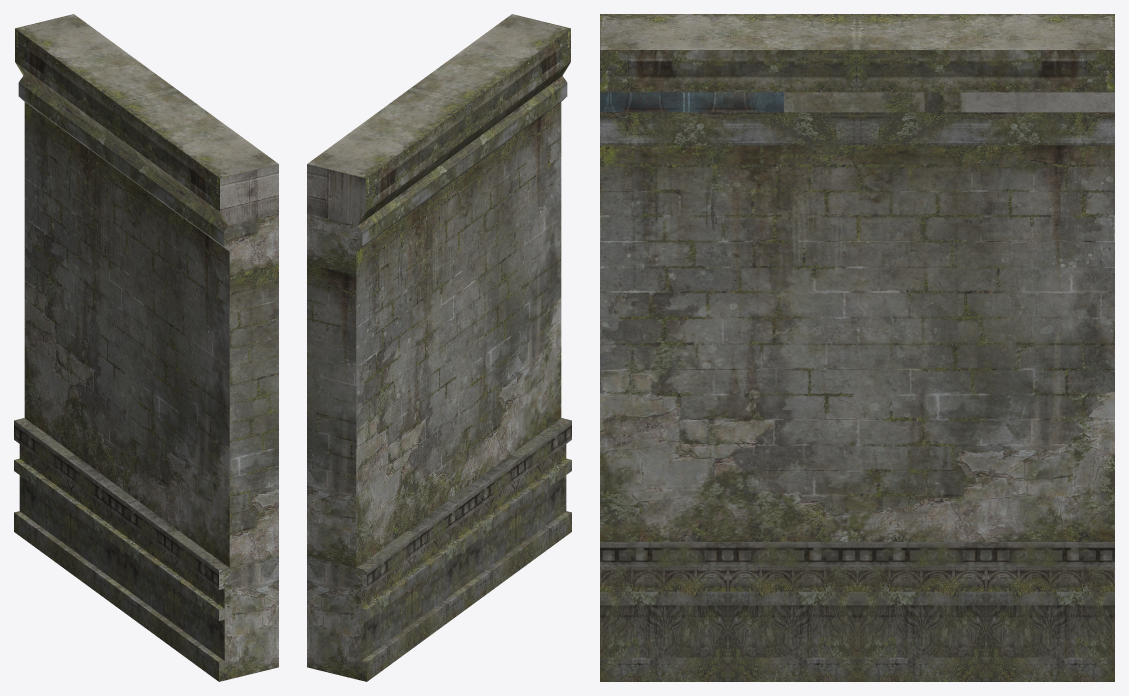
The model's file is bg_lut_lucastle_brosewall01a_sm_psy.FBX.
3 renders of one model, left to right at view 1: azimuth 30°, elevation 25°; view 2: azimuth 150°, elevation 25°; view 3: azimuth 270°, elevation 25°, orthographic. The views are drawn at different scales.
Parts seen in each view (by area): view 1: bg_lut_lucastle_brosewall01a_sm_psy; view 2: bg_lut_lucastle_brosewall01a_sm_psy; view 3: bg_lut_lucastle_brosewall01a_sm_psy.
Boxes of the visible parts, x1,y1,x2,y2 form: bg_lut_lucastle_brosewall01a_sm_psy: [14, 14, 278, 681]; bg_lut_lucastle_brosewall01a_sm_psy: [307, 14, 571, 681]; bg_lut_lucastle_brosewall01a_sm_psy: [600, 14, 1114, 681].
Bounding box in the file's own units: 64.75 × 520 × 384.
